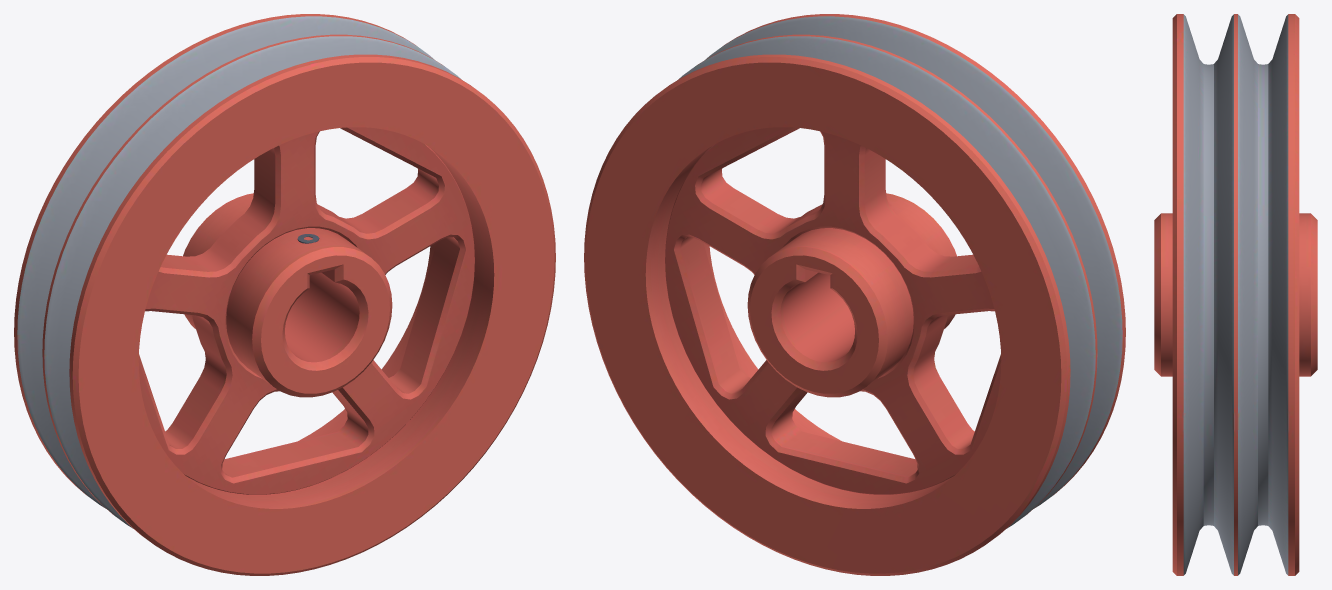
File: pulley.glb
3 renders of one model, left to right at view 1: azimuth 30°, elevation 25°; view 2: azimuth 150°, elevation 25°; view 3: azimuth 270°, elevation 25°, orthographic.
Visible parts, largest first — view 1: pulley_rotor; view 2: pulley_rotor; view 3: pulley_rotor.
Boxes of the visible parts, x1=… form: pulley_rotor: x1=14, y1=14, x2=555, y2=575; pulley_rotor: x1=584, y1=14, x2=1125, y2=575; pulley_rotor: x1=1154, y1=14, x2=1317, y2=575.
Bounding box in the file's own units: 0.155 × 0.155 × 0.045.
1 material, 1 textured.
